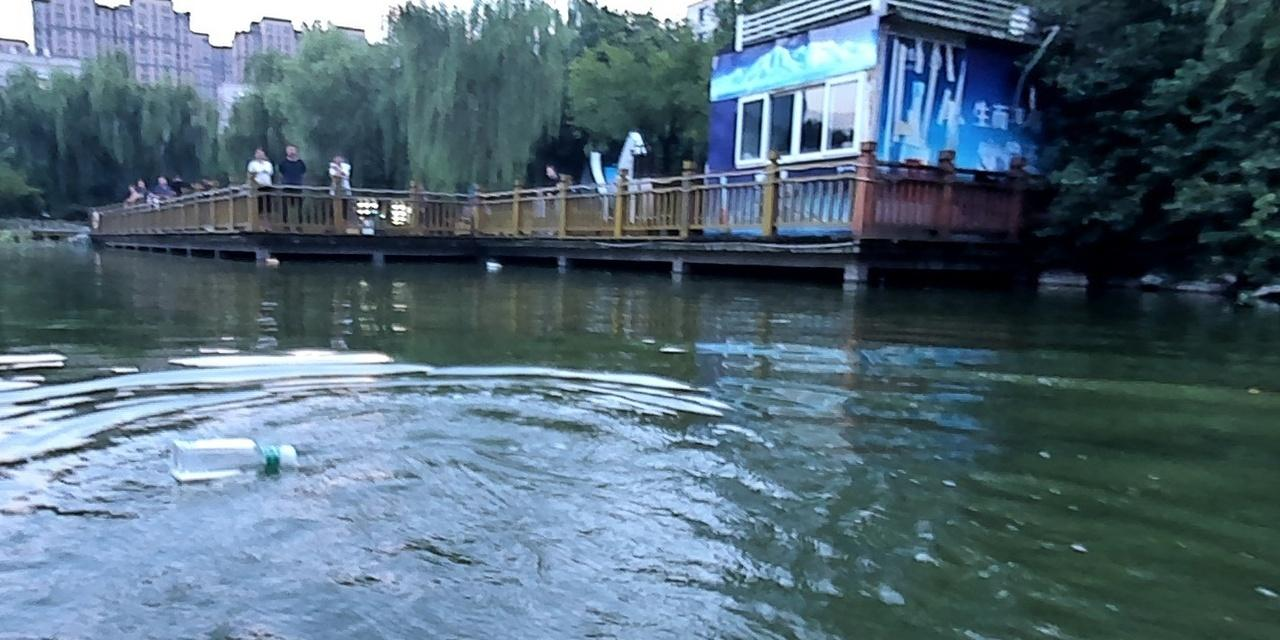bottle: (167, 437, 296, 479), (483, 258, 502, 271), (263, 255, 278, 266)
